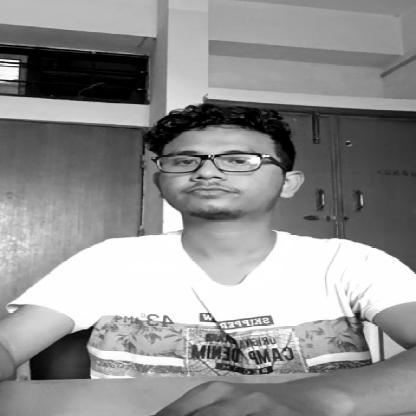Normal: (107, 107, 314, 233)
